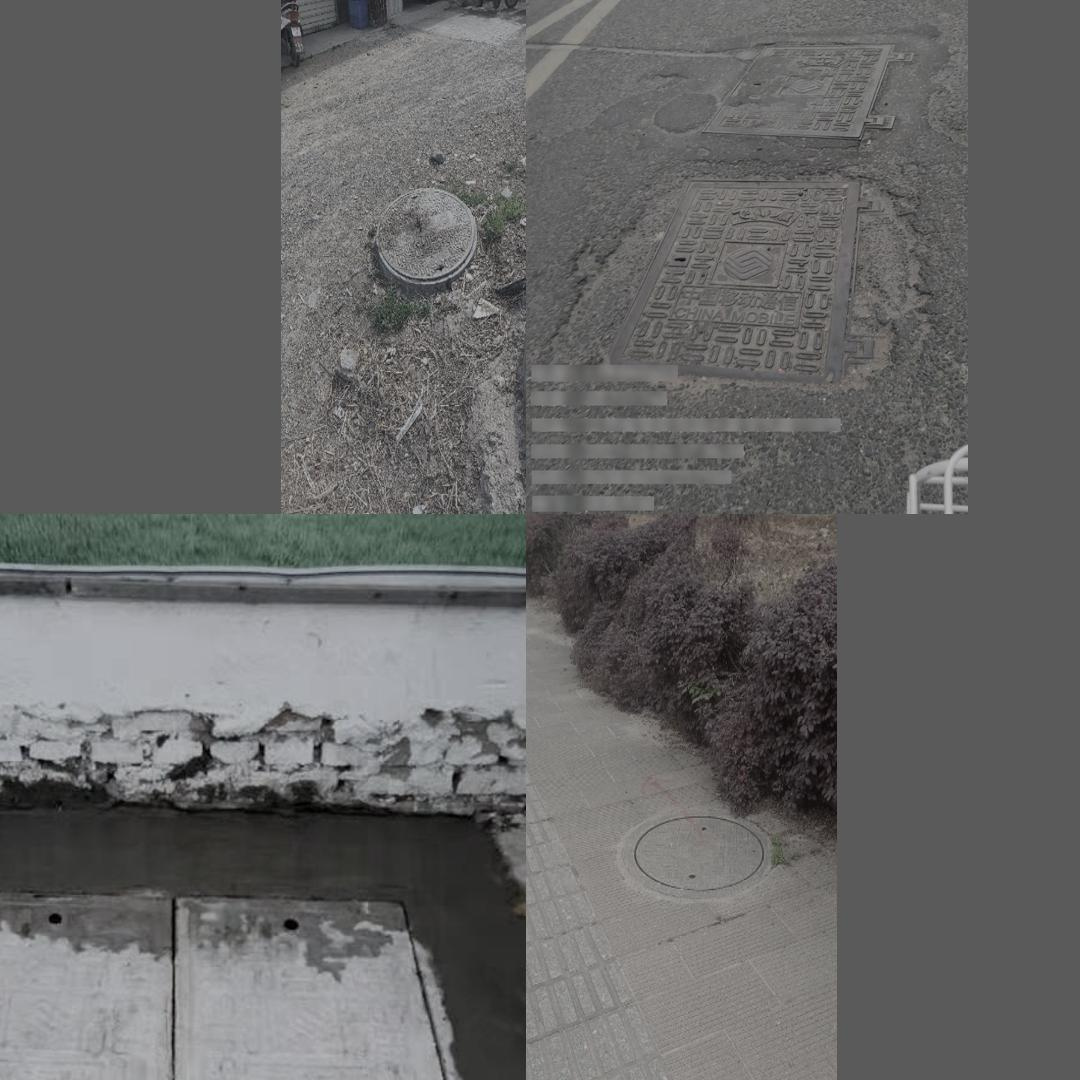good: (0, 884, 480, 1080), (605, 178, 882, 382), (703, 46, 914, 139), (621, 807, 770, 893), (375, 187, 477, 285)
